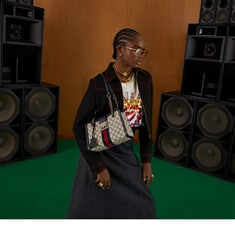Gucci: (84, 109, 133, 152), (101, 120, 116, 151)
